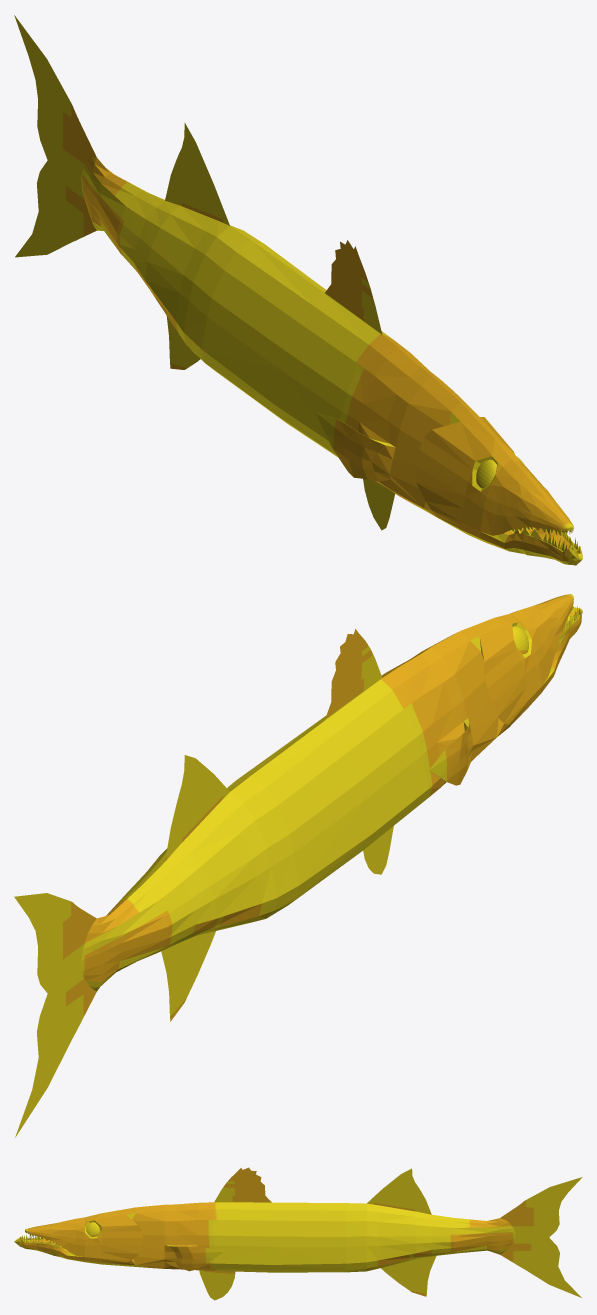
File: barracuda.obj
The picture shows the model from 3 angles, top to bottom: view 1: azimuth 30°, elevation 25°; view 2: azimuth 150°, elevation 25°; view 3: azimuth 270°, elevation 25°; orthographic projection. The views are drawn at different scales.
Visible parts, largest first — view 1: Circle_ore; view 2: Circle_ore; view 3: Circle_ore.
Boxes of the visible parts, x1=… form: Circle_ore: x1=14, y1=15, x2=582, y2=565; Circle_ore: x1=14, y1=594, x2=582, y2=1137; Circle_ore: x1=14, y1=1167, x2=582, y2=1300.
Size of the model in its own units: 0.7384 by 1.64 by 6.37.
